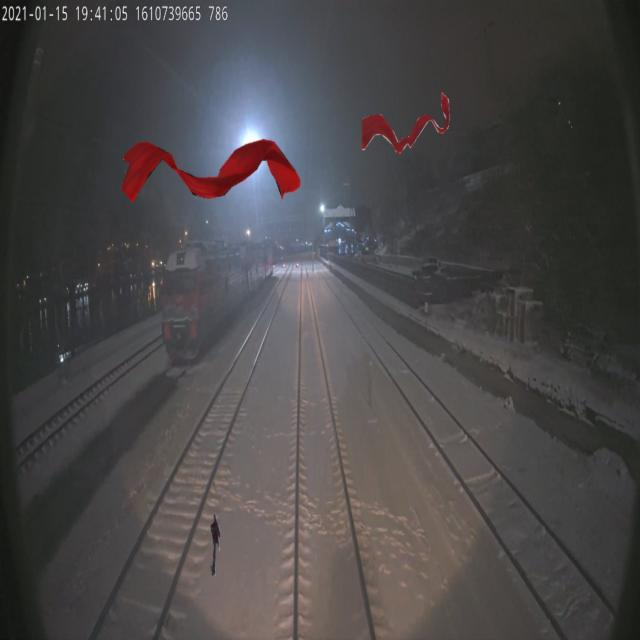floating object: (121, 138, 301, 202), (360, 90, 450, 154), (210, 512, 220, 576)
